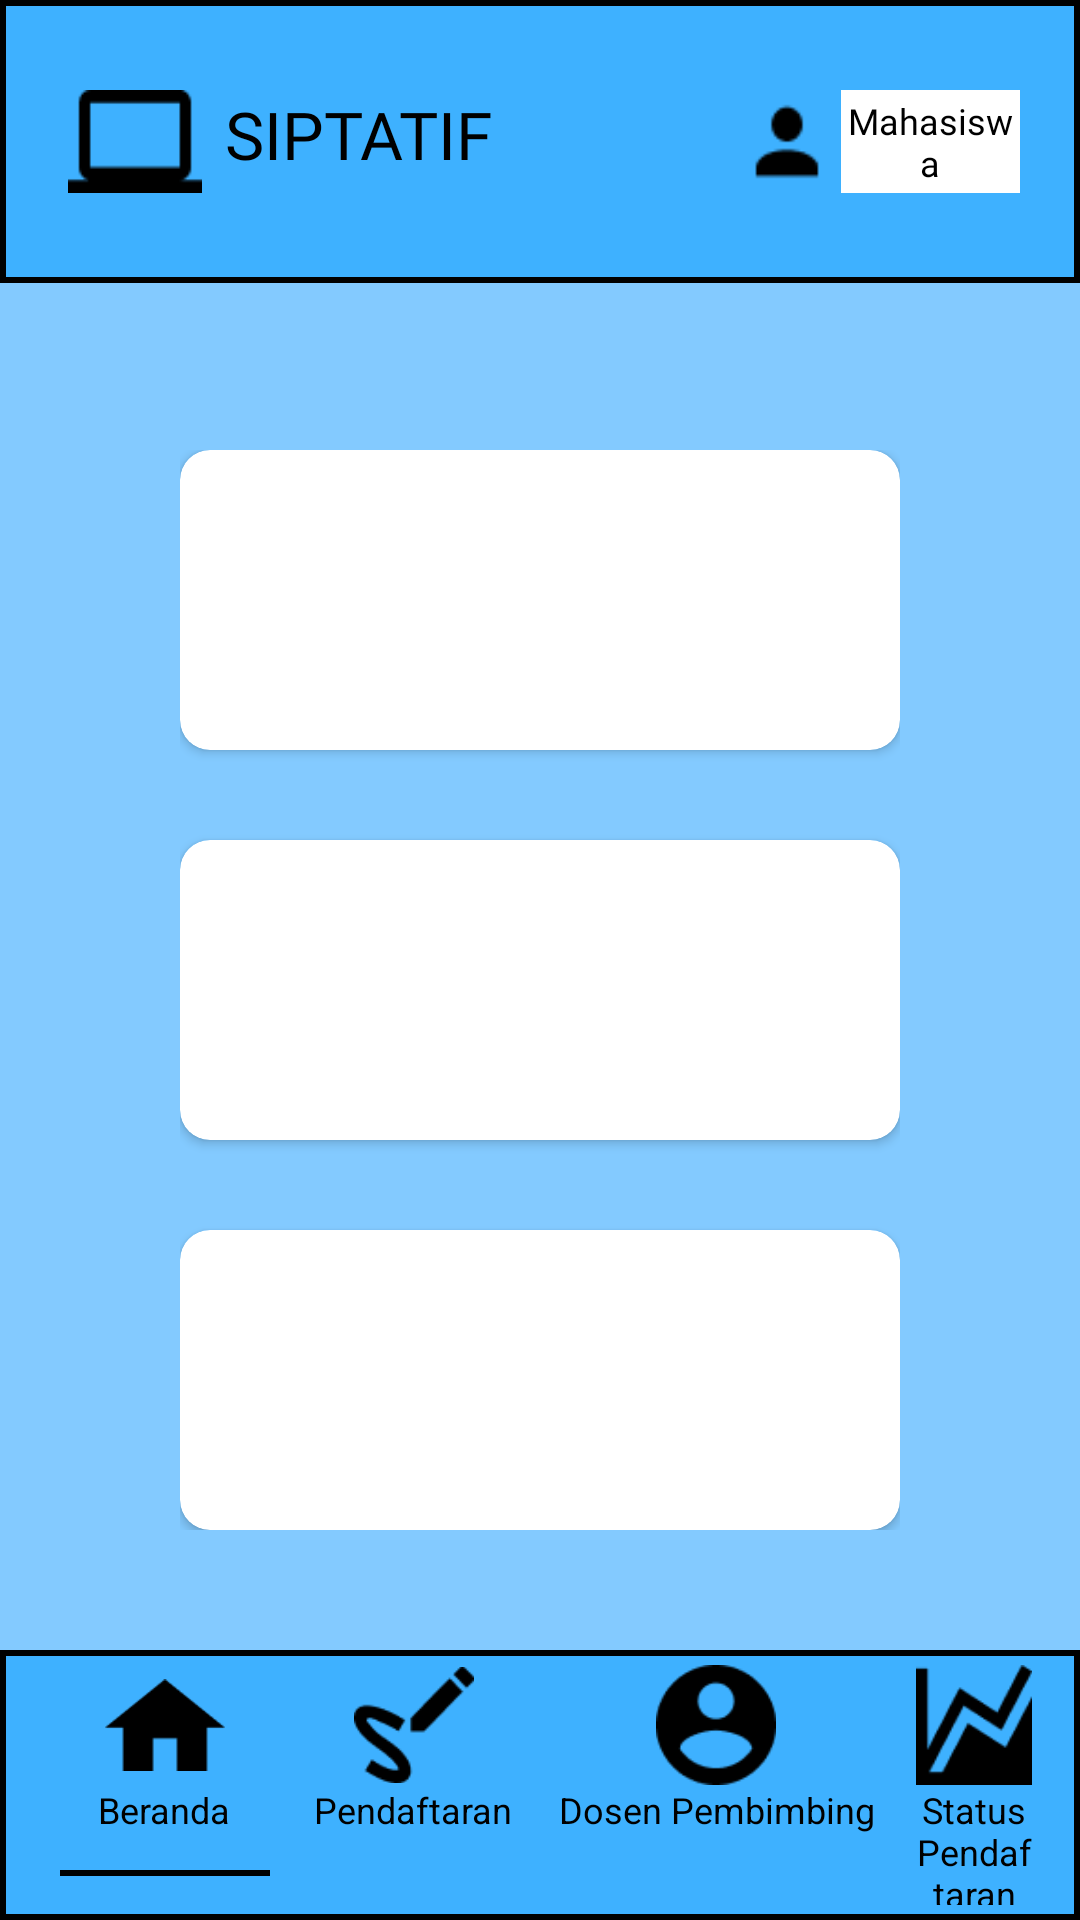

Where icons sit on this 1080*1920 app screen, as [left=x1, top=y1, right=x2, bottom=y2]:
profile email: [left=755, top=105, right=819, bottom=178]
